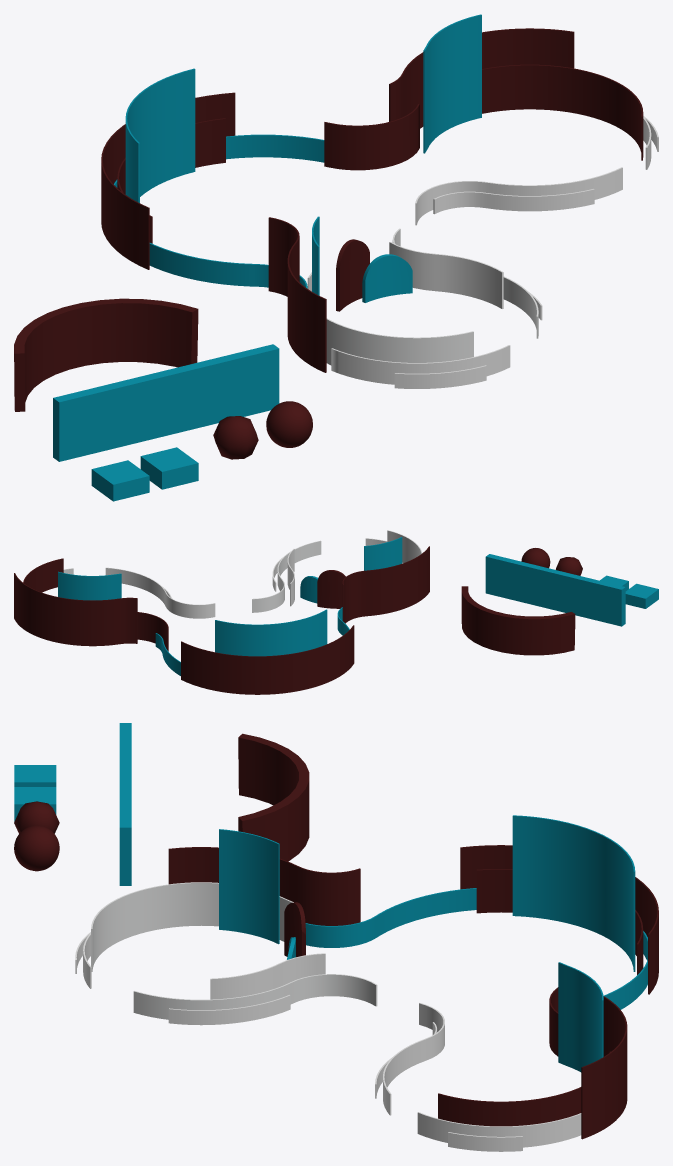
The model's file is meeting.fbx.
3 renders of one model, top to bottom at view 1: azimuth 30°, elevation 25°; view 2: azimuth 150°, elevation 25°; view 3: azimuth 270°, elevation 25°, orthographic. The views are drawn at different scales.
Visible parts, largest first — view 1: Group7, Group6, Group13, Box003, Box004, Group14, Group9, Group16, Group5, Difference, Difference1, Box002 (+6 smaller); view 2: Group13, Group7, Box003, Box004, Group6, Group16, Group4, Difference1, Box001, Group14, Difference, Sphere002 (+1 smaller); view 3: Group7, Group13, Group6, Box004, Group14, Group4, Group5, Group8, Group16, Box003, Group15, Sphere002 (+4 smaller).
Boxes of the visible parts, bbox=[...] form: Group7: bbox=[125, 14, 503, 308]; Group6: bbox=[307, 64, 643, 365]; Group13: bbox=[101, 28, 574, 372]; Box003: bbox=[53, 344, 279, 461]; Box004: bbox=[14, 298, 198, 411]; Group14: bbox=[114, 134, 324, 288]; Group9: bbox=[331, 345, 510, 384]; Group16: bbox=[415, 167, 622, 225]; Group5: bbox=[433, 116, 658, 320]; Difference: bbox=[362, 254, 412, 302]; Difference1: bbox=[336, 239, 369, 311]; Box002: bbox=[140, 447, 198, 489]; Group13: bbox=[14, 546, 429, 694]; Group7: bbox=[58, 537, 402, 656]; Box003: bbox=[485, 554, 625, 626]; Box004: bbox=[461, 586, 575, 655]; Group6: bbox=[23, 530, 422, 651]; Group16: bbox=[105, 567, 215, 618]; Group4: bbox=[252, 540, 321, 612]; Difference1: bbox=[317, 570, 345, 608]; Box001: bbox=[625, 583, 658, 608]; Group14: bbox=[155, 607, 349, 675]; Difference: bbox=[300, 576, 318, 603]; Sphere002: bbox=[521, 548, 550, 568]; Group7: bbox=[210, 815, 635, 1072]; Group13: bbox=[168, 845, 658, 1139]; Group6: bbox=[91, 882, 610, 1126]; Box004: bbox=[238, 733, 309, 861]; Group14: bbox=[305, 888, 647, 1009]; Group4: bbox=[133, 974, 377, 1019]; Group5: bbox=[168, 995, 522, 1151]; Group8: bbox=[417, 1112, 581, 1147]; Group16: bbox=[383, 1003, 444, 1115]; Box003: bbox=[119, 723, 131, 885]; Group15: bbox=[476, 869, 643, 974]; Sphere002: bbox=[14, 825, 59, 871].
Size of the model in its own units: 804 by 102 by 592.
